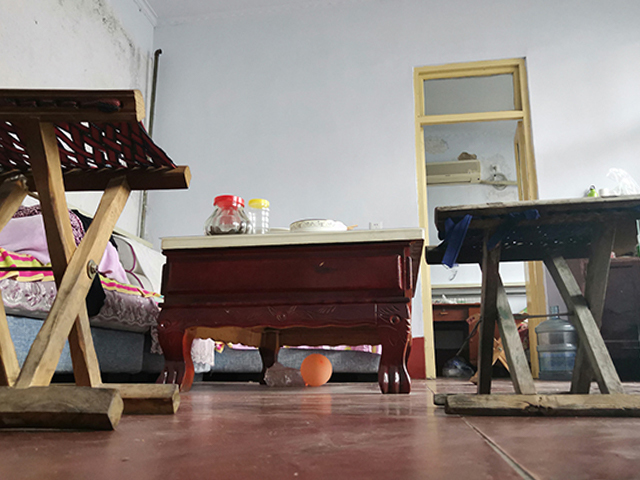stool: (1, 85, 191, 432), (422, 192, 640, 417)
table: (152, 223, 426, 396), (431, 301, 482, 370)
